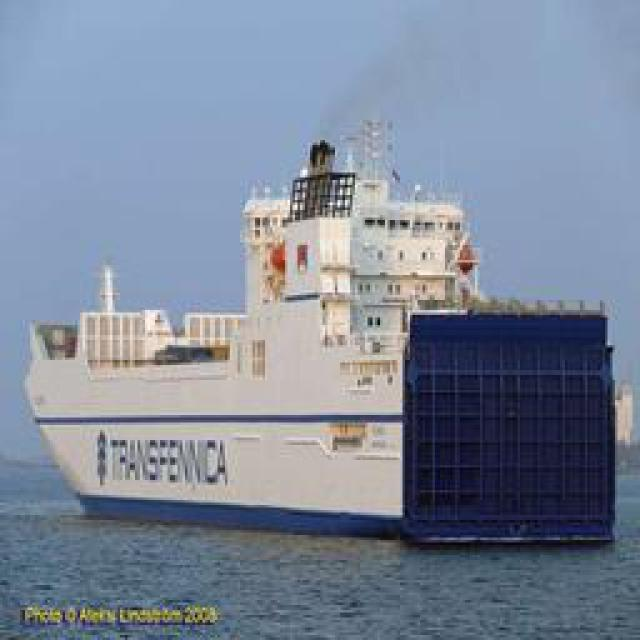Ship: (22, 85, 616, 554)
